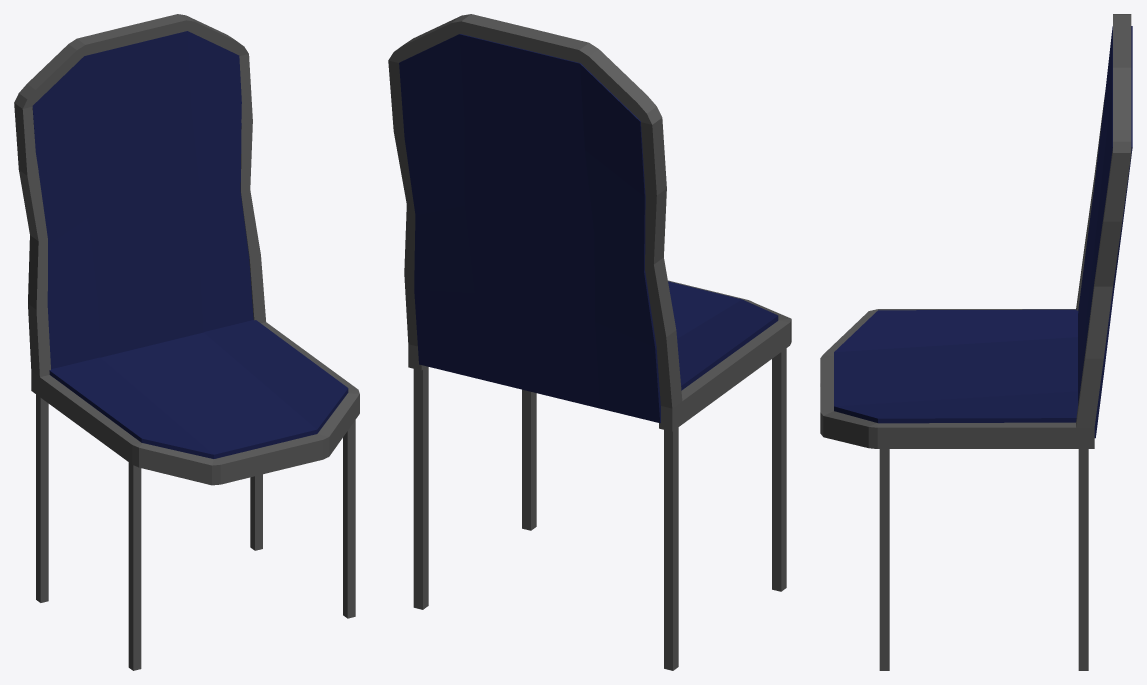
Rendered from stolicka_3.fbx.
3 renders of one model, left to right at view 1: azimuth 30°, elevation 25°; view 2: azimuth 150°, elevation 25°; view 3: azimuth 270°, elevation 25°, orthographic. The views are drawn at different scales.
Visible parts, largest first — view 1: Cube.003; view 2: Cube.003; view 3: Cube.003.
Part boxes in pixels (x1,y1,x2,y2): Cube.003: (14, 14, 359, 670); Cube.003: (388, 14, 791, 670); Cube.003: (820, 14, 1132, 670).
Bounding box in the file's own units: 57.04 × 128 × 63.45.
